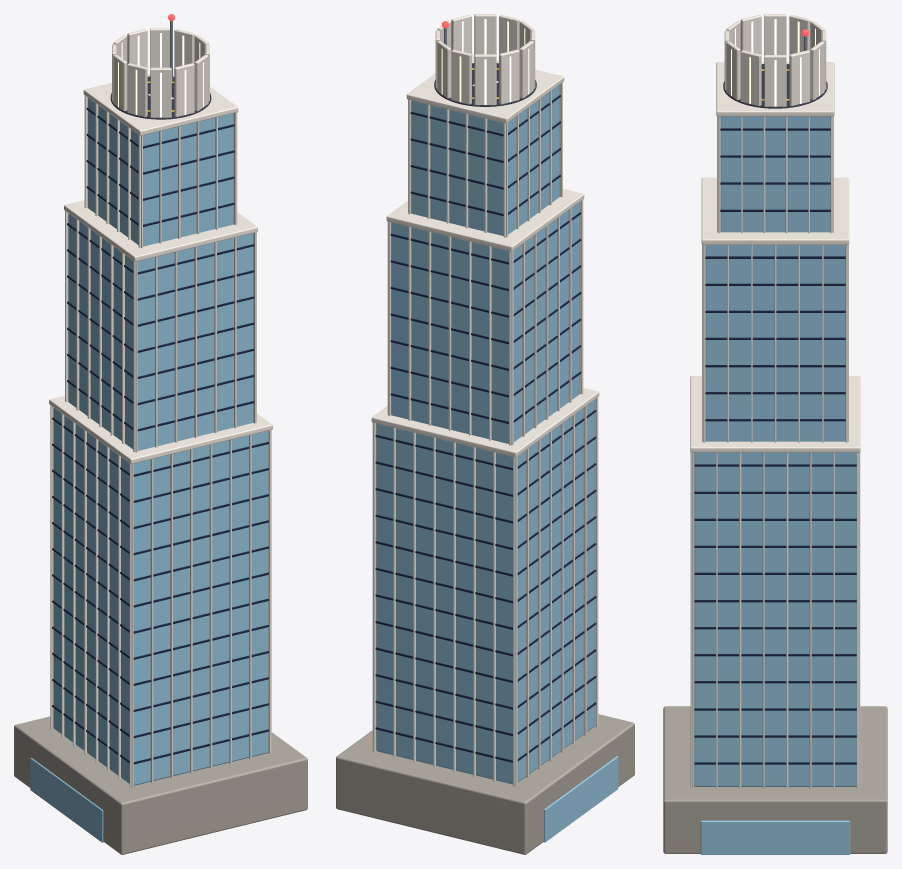
The model's file is glass_tower.glb.
The picture shows the model from 3 angles, left to right: view 1: azimuth 30°, elevation 25°; view 2: azimuth 150°, elevation 25°; view 3: azimuth 270°, elevation 25°; orthographic projection. The views are drawn at different scales.
Visible parts, largest first — view 1: glass_tower; view 2: glass_tower; view 3: glass_tower.
Boxes of the visible parts, left/top/right/bottom form: glass_tower: left=14, top=14, right=307, bottom=854; glass_tower: left=336, top=14, right=634, bottom=854; glass_tower: left=663, top=14, right=887, bottom=854.
Bounding box in the file's own units: 30.4 × 117 × 30.
Materials: 1 (1 with a texture image).
